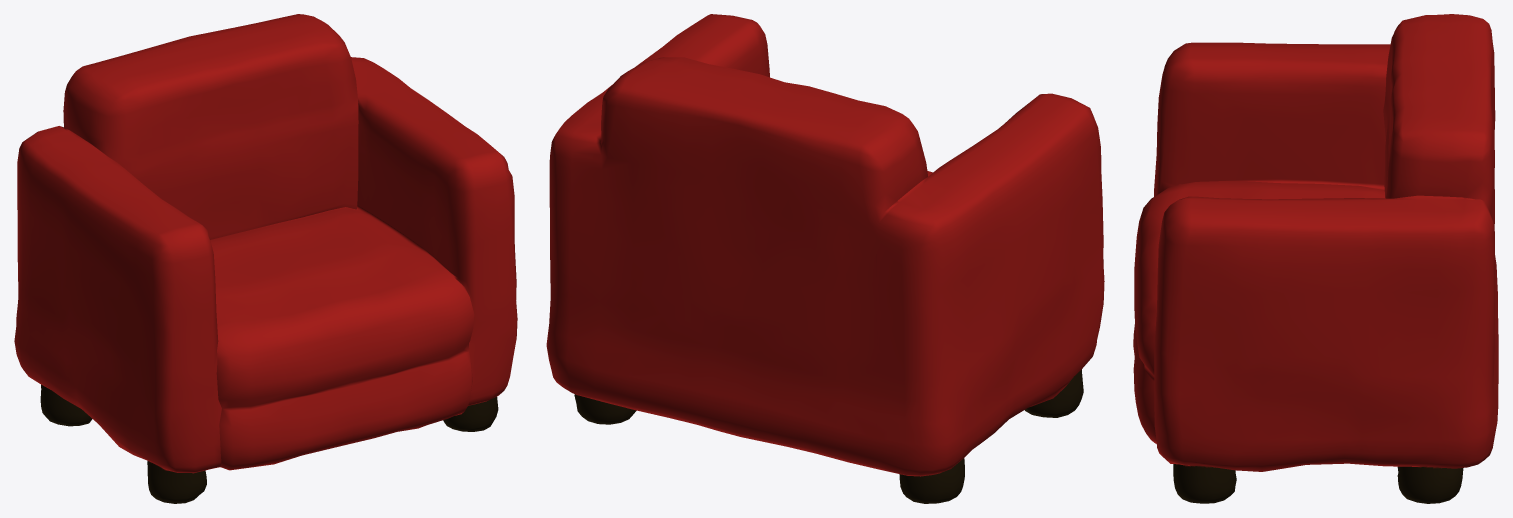
The model's file is chair.fbx.
3 renders of one model, left to right at view 1: azimuth 30°, elevation 25°; view 2: azimuth 150°, elevation 25°; view 3: azimuth 270°, elevation 25°, orthographic. The views are drawn at different scales.
Parts seen in each view (by area): view 1: mesh_id22; view 2: mesh_id22; view 3: mesh_id22.
Part boxes in pixels (box(x1,y1,x2,y2)): mesh_id22: box(14, 14, 517, 503); mesh_id22: box(546, 14, 1104, 503); mesh_id22: box(1133, 14, 1498, 503).
Bounding box in the file's own units: 1024 × 856 × 817.
1 material, 1 textured.
